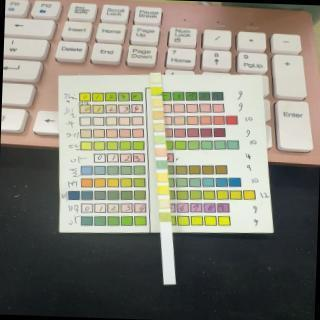mark: (153, 122, 164, 132), (155, 147, 166, 157), (156, 160, 167, 170), (159, 199, 170, 209), (160, 212, 170, 222), (152, 111, 163, 120), (151, 74, 161, 83), (151, 86, 161, 95), (157, 173, 167, 182), (158, 185, 168, 194), (152, 100, 162, 108), (154, 136, 164, 144)
